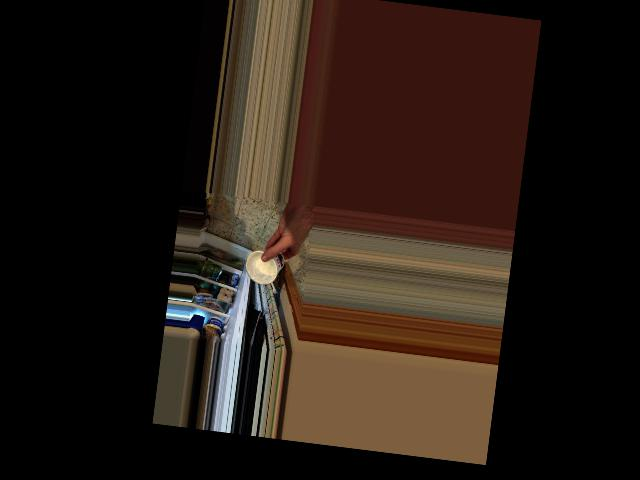cotage: (243, 246, 288, 288)
